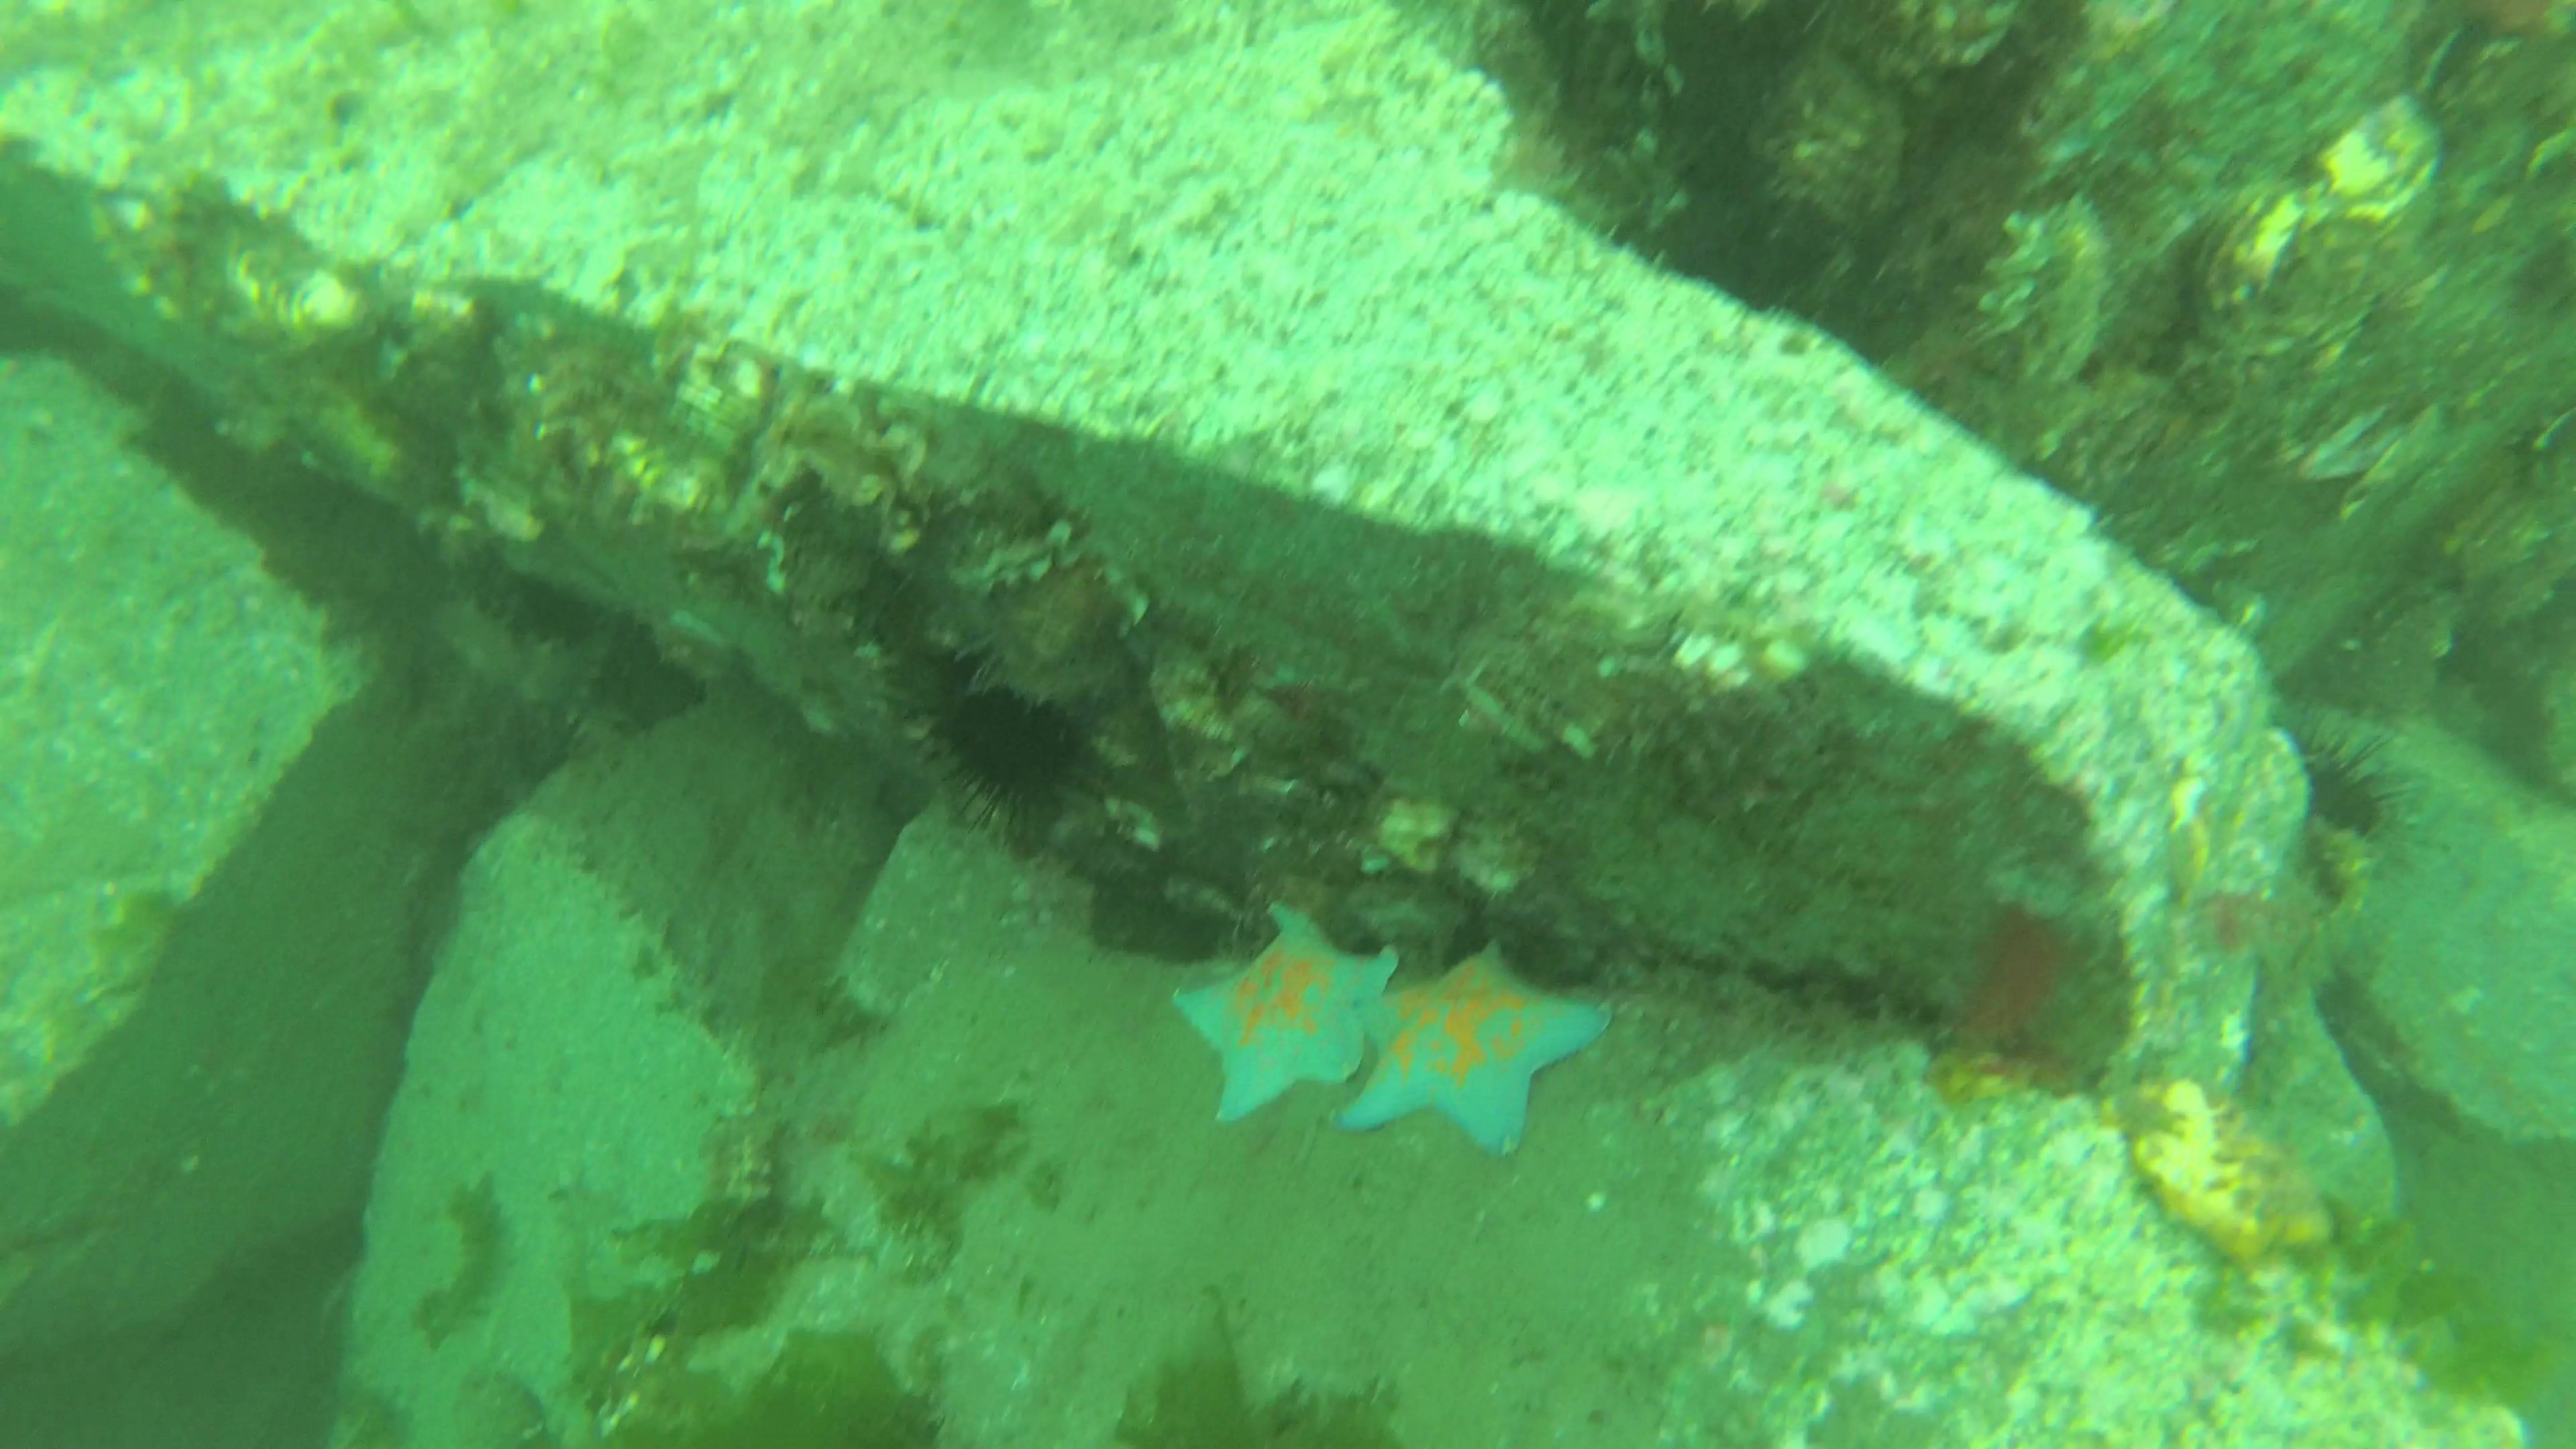echinus: (927, 685, 1083, 840), (2289, 711, 2408, 844)
holothurian: (418, 591, 614, 706)
starfish: (1332, 932, 1619, 1161), (1169, 895, 1405, 1129)
